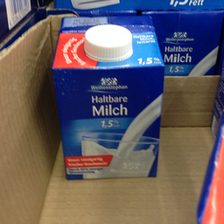milk: (52, 17, 165, 185), (146, 10, 224, 76)
